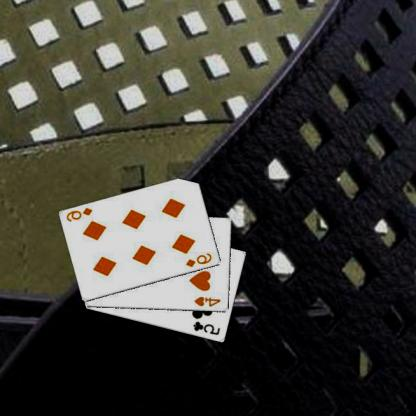4H: (193, 294, 224, 308)
5C: (193, 318, 223, 336)
6D: (185, 250, 215, 268), (66, 205, 96, 223)
